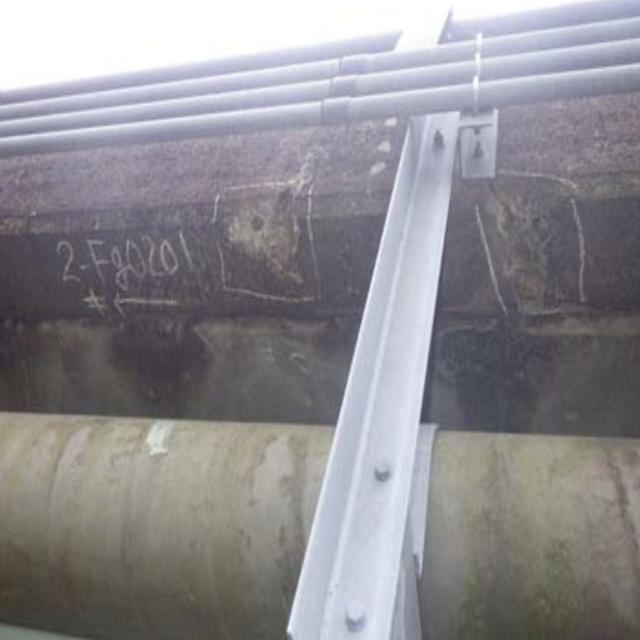spalling: (482, 174, 592, 339), (223, 160, 324, 299)
